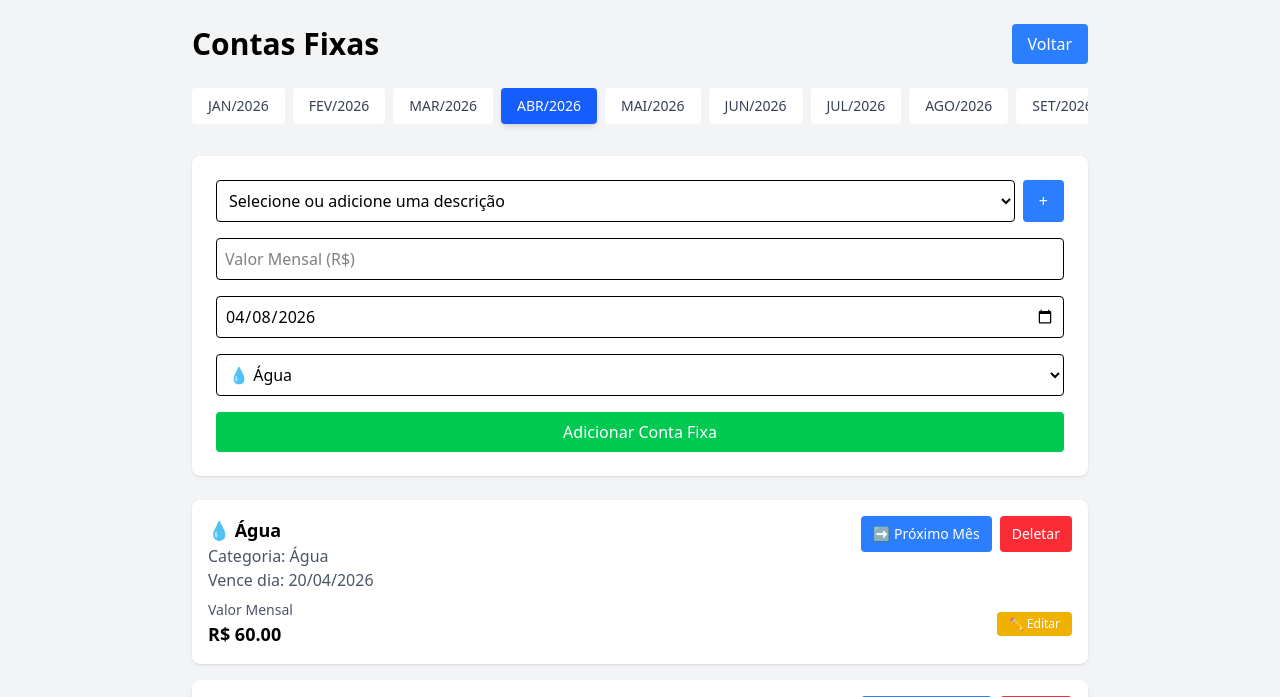
Scenario: FixedBills Page › Deve filtrar contas por mês selecionado
Click the button "MAI/2026": (653, 106) left=605, top=88, right=701, bottom=124
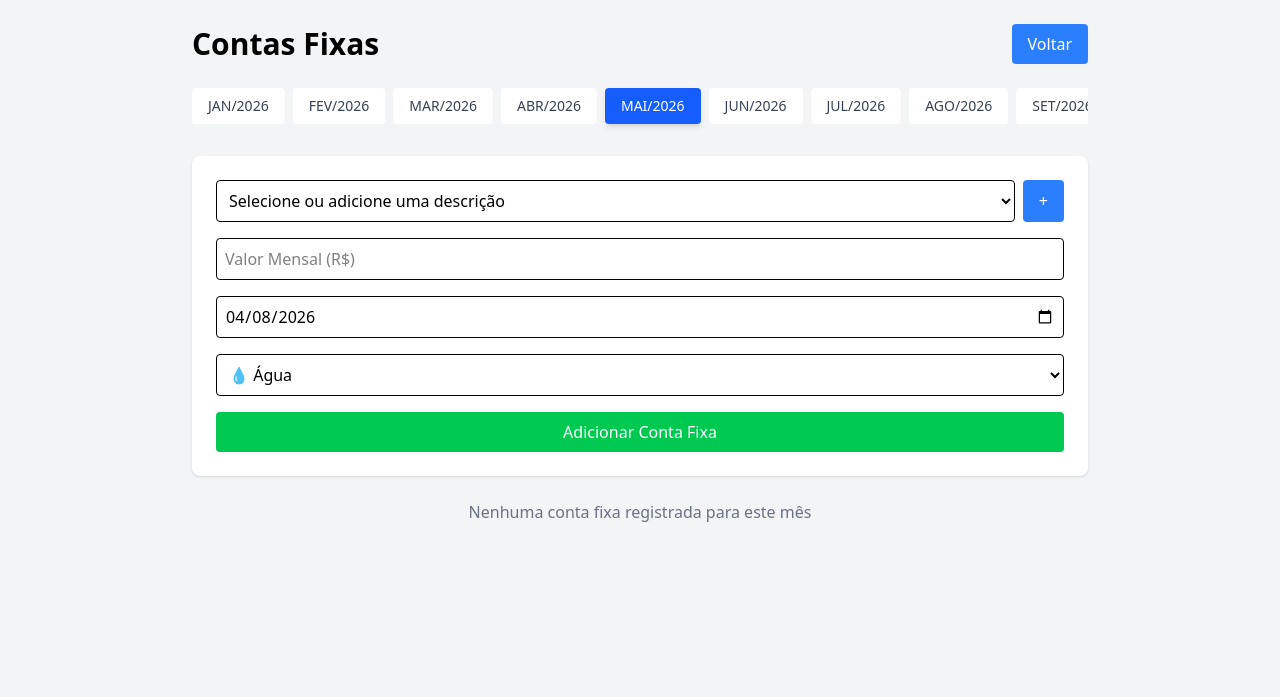
Check: the text "Nenhuma conta fixa registrada para este mês" is shown, box left=469, top=501, right=811, bottom=523
